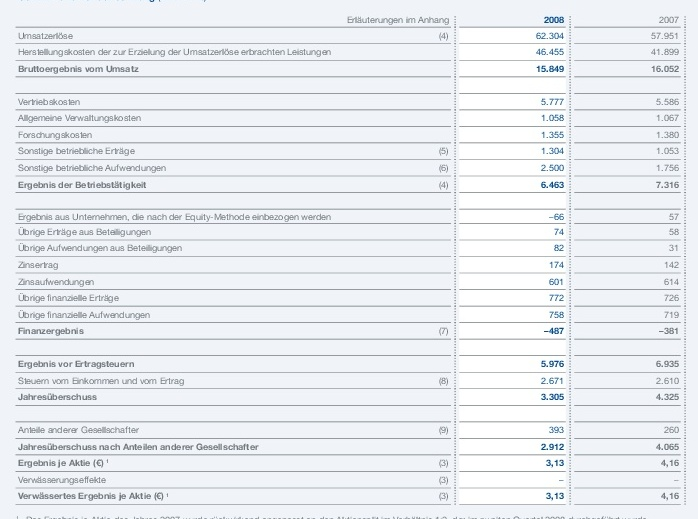table: (0, 0, 698, 519)
